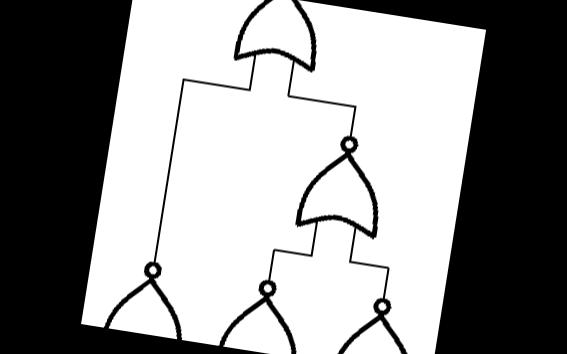nor: (288, 123, 394, 244), (96, 249, 200, 341), (212, 267, 314, 354), (226, 0, 329, 79), (327, 286, 428, 354)
